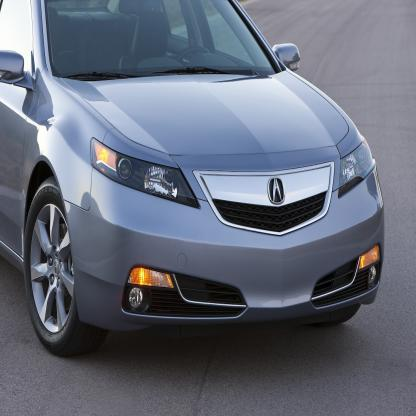Vehicle: (0, 0, 386, 351)
